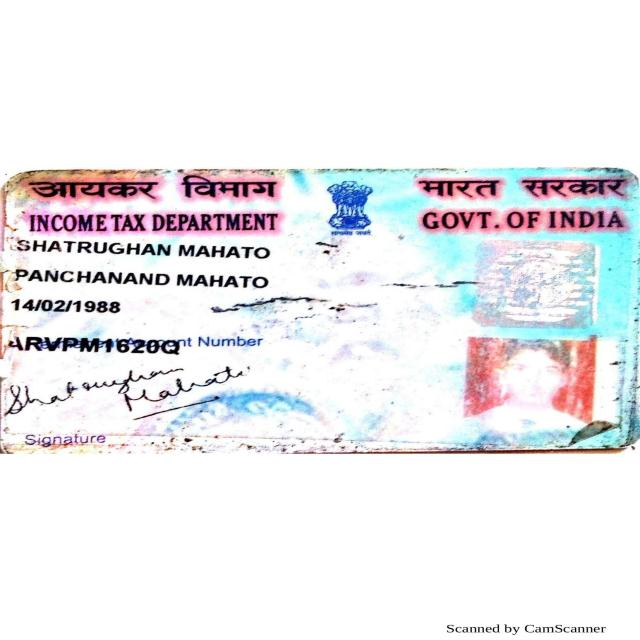pan_card: (3, 171, 634, 450)
